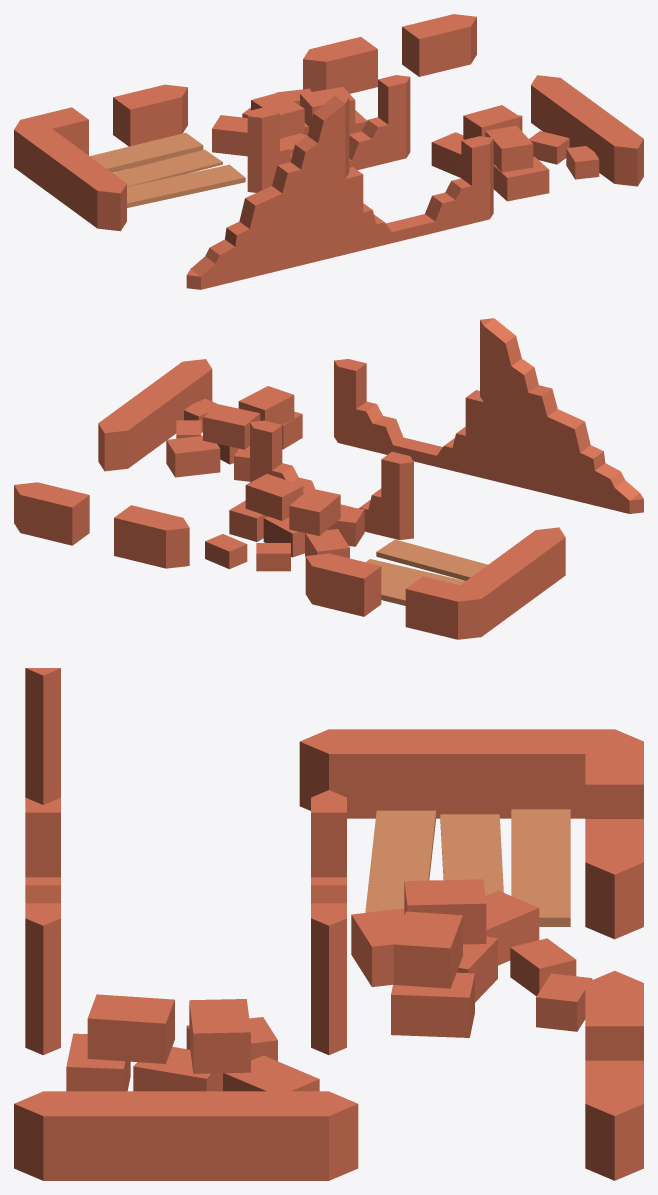
Rendered from House1Destroyed.obj.
The picture shows the model from 3 angles, top to bottom: view 1: azimuth 30°, elevation 25°; view 2: azimuth 150°, elevation 25°; view 3: azimuth 270°, elevation 25°; orthographic projection. The views are drawn at different scales.
Size of the model in its own units: 3.2 by 1 by 2.21.
